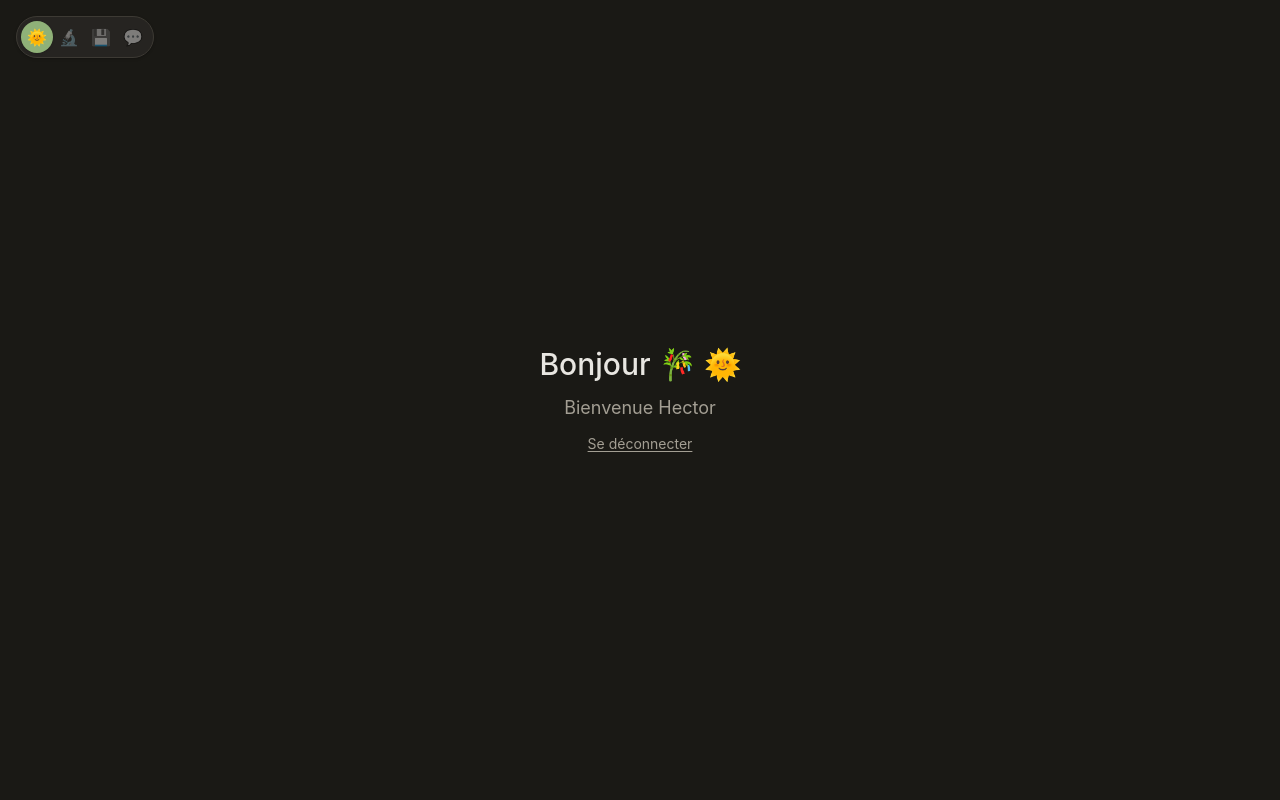
Test: LabApp — signed in › signs out back to the login popup and forgets the proxy key
Expected: the element named "Lab sections" is shown, [16, 16, 154, 58]
Click the button "Se déconnecter" at (640, 444), box [588, 434, 692, 454]
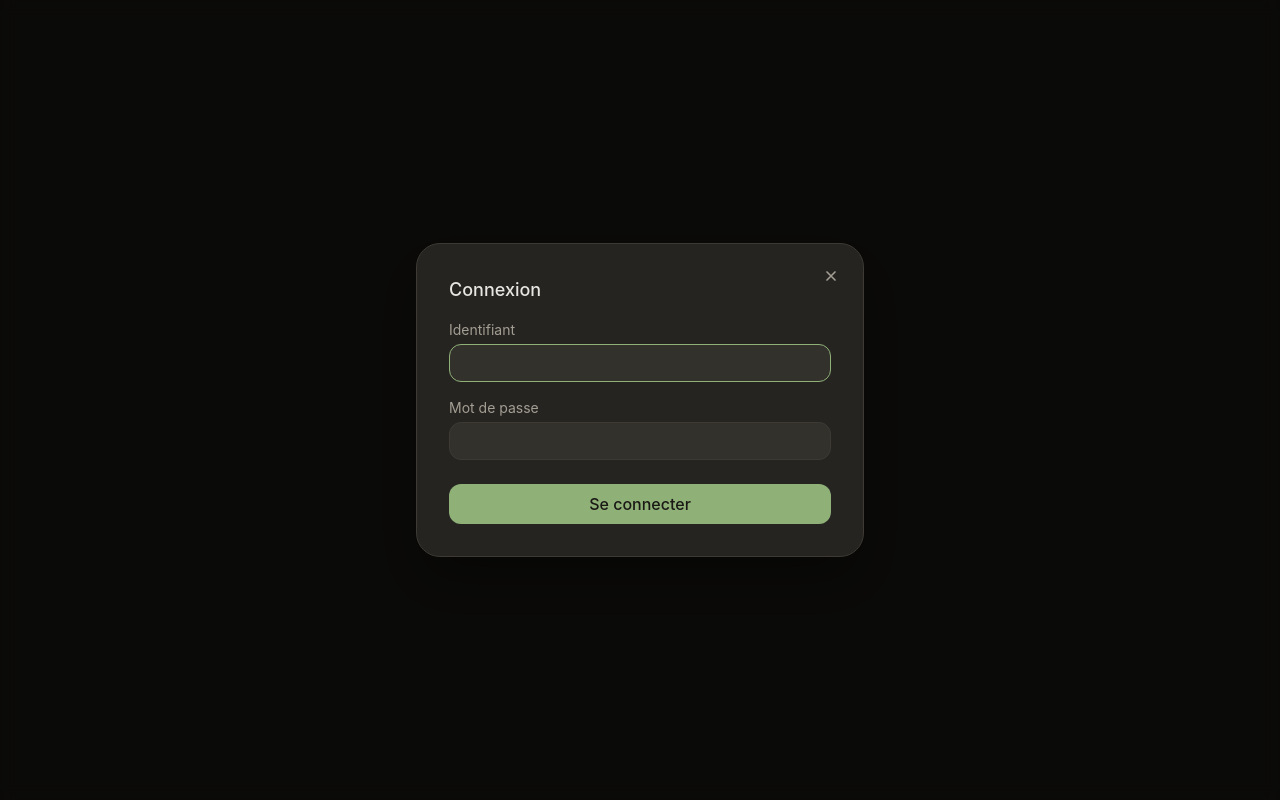
Result: the field labelled "Identifiant" is shown at [449, 344, 831, 382]
